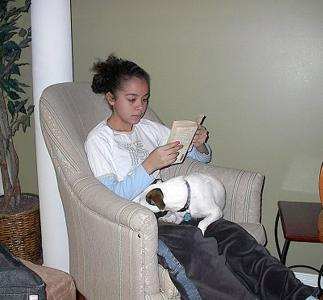person: (83, 53, 322, 300)
